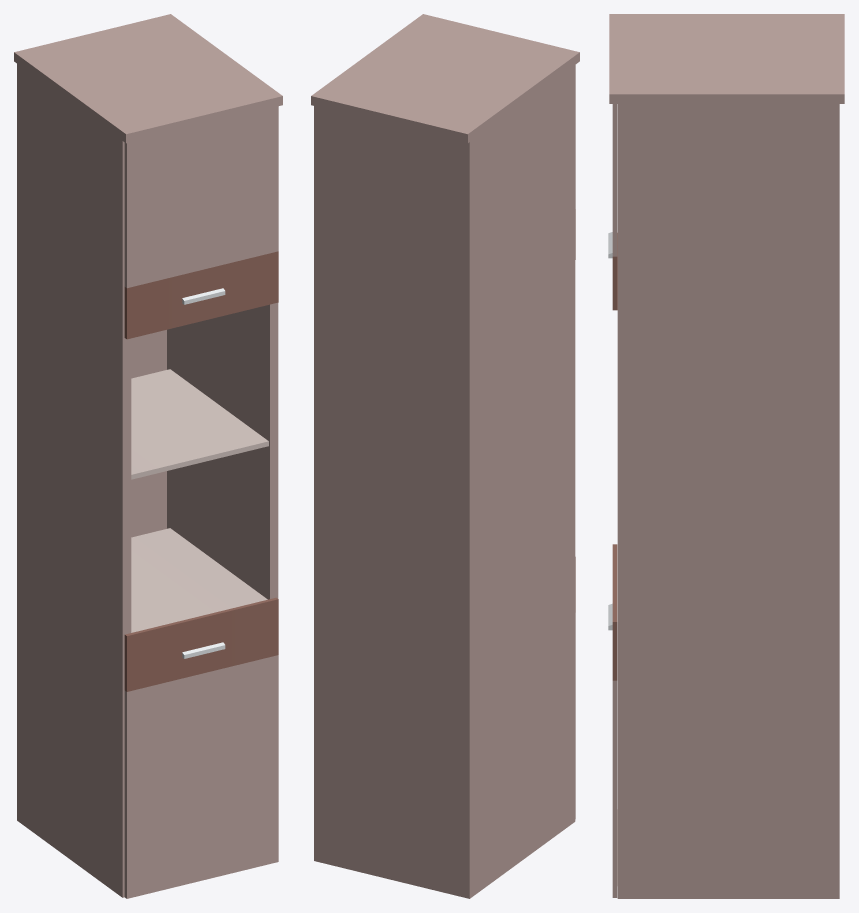
Rendered from closet_018.glb.
3 views of the same model, side by side, from view 1: azimuth 30°, elevation 25°; view 2: azimuth 150°, elevation 25°; view 3: azimuth 270°, elevation 25° (orthographic). The views are drawn at different scales.
Visible parts, largest first — view 1: closet_018; view 2: closet_018; view 3: closet_018.
Part boxes in pixels (<box>): closet_018: <box>14,14,282,898</box>; closet_018: <box>311,14,579,898</box>; closet_018: <box>608,14,844,898</box>.
Size of the model in its own units: 0.4639 by 2.17 by 0.5761.
1 material, 1 textured.
